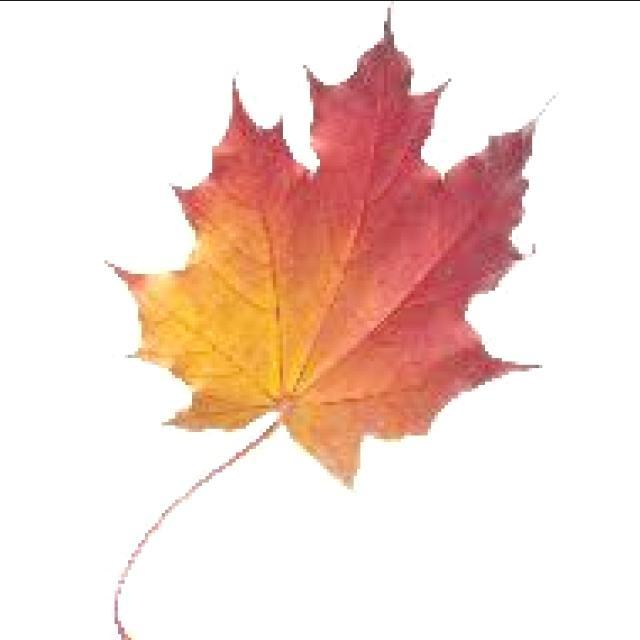leaf: (104, 5, 550, 636)
